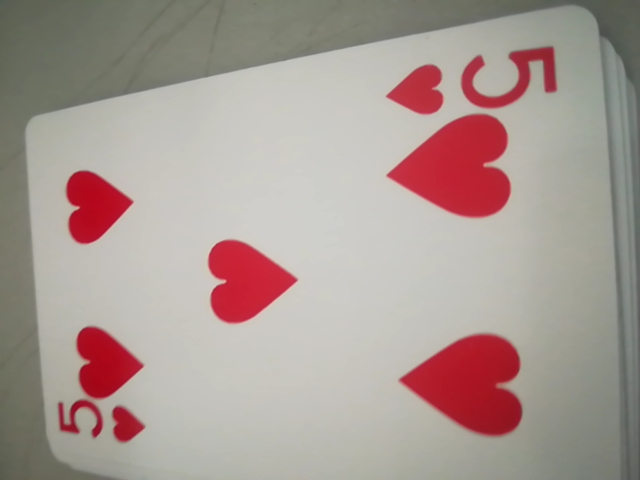hx 5: (383, 37, 567, 121), (52, 394, 147, 457)
